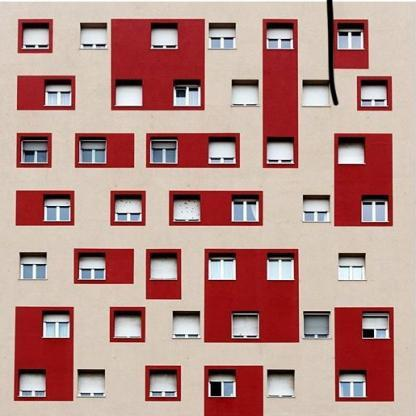Blind: (267, 372, 295, 396), (301, 83, 329, 107), (150, 256, 178, 280), (232, 80, 259, 104), (115, 314, 142, 338), (115, 84, 143, 107), (339, 140, 365, 164), (78, 372, 105, 393), (232, 315, 259, 336), (174, 199, 201, 219), (266, 141, 293, 161), (173, 314, 200, 334), (304, 314, 331, 334), (19, 372, 47, 391), (151, 27, 179, 46), (149, 373, 176, 392), (22, 28, 49, 45), (359, 84, 387, 100), (209, 141, 237, 157), (115, 198, 142, 213), (80, 29, 107, 43), (304, 198, 331, 212), (78, 255, 105, 268), (362, 317, 389, 329), (22, 140, 49, 151), (79, 140, 107, 150), (208, 372, 235, 382), (44, 197, 71, 207), (338, 256, 365, 266), (339, 373, 367, 382), (209, 28, 237, 37), (150, 140, 178, 149), (19, 255, 47, 264), (266, 29, 293, 38), (42, 313, 69, 322), (44, 83, 72, 91), (208, 255, 236, 260), (337, 27, 364, 32), (362, 197, 389, 202), (267, 256, 295, 260), (232, 198, 259, 202), (174, 84, 201, 87)
Building Outline: (0, 1, 415, 415)
Facade: (0, 1, 415, 415)
Floor: (0, 2, 415, 67), (0, 244, 415, 299), (0, 362, 415, 415), (0, 72, 415, 124), (0, 187, 415, 239), (0, 130, 415, 181), (0, 305, 415, 356)
Floor Slab: (0, 356, 415, 362), (0, 124, 415, 130), (0, 181, 415, 187), (0, 299, 415, 305), (0, 239, 415, 244), (0, 67, 415, 72)
Window: (151, 23, 179, 50), (209, 23, 237, 50), (44, 80, 72, 107), (115, 80, 143, 107), (301, 80, 329, 107), (359, 80, 387, 107), (79, 137, 107, 164), (150, 137, 178, 164), (209, 137, 237, 164), (19, 252, 47, 279), (150, 253, 178, 280), (208, 253, 236, 280), (267, 253, 295, 280), (19, 369, 47, 396), (267, 369, 295, 396), (339, 370, 367, 397), (22, 23, 49, 50), (80, 23, 107, 50), (266, 23, 293, 50), (337, 23, 364, 50), (174, 80, 201, 107), (232, 80, 259, 107), (22, 137, 49, 164), (266, 137, 293, 164), (44, 194, 71, 221), (115, 194, 142, 221), (174, 194, 201, 221), (232, 194, 259, 221), (304, 194, 331, 221), (362, 194, 389, 221), (78, 253, 105, 280), (338, 253, 365, 280), (42, 310, 69, 337), (115, 310, 142, 337), (173, 310, 200, 337), (232, 311, 259, 338), (304, 310, 331, 337), (362, 311, 389, 338), (78, 369, 105, 396), (149, 369, 176, 396), (208, 369, 235, 396), (339, 137, 365, 164)
